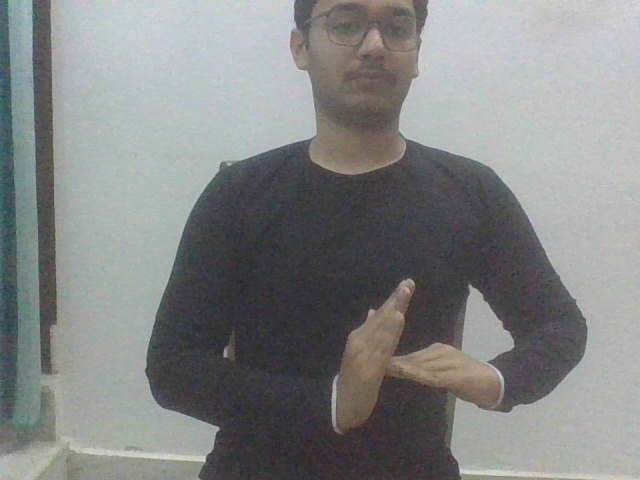Z: (336, 275, 481, 433)
